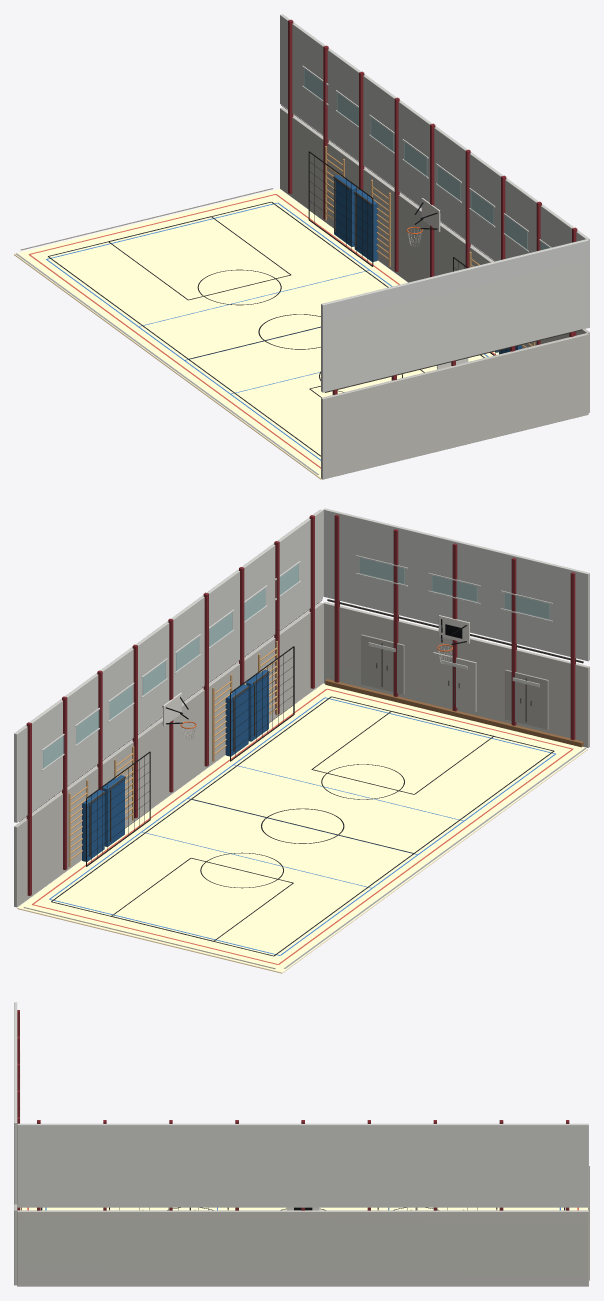
Rendered from Echte_Halle_Kleine_Hallenhaelfte_v3_open.glb.
3 views of the same model, one above another, from view 1: azimuth 30°, elevation 25°; view 2: azimuth 150°, elevation 25°; view 3: azimuth 270°, elevation 25° (orthographic). The views are drawn at different scales.
Parts seen in each view (by area): view 1: v3_kleine_hallenhaelfte_open_planner_floor_10x20m, v3_kleine_hallenhaelfte_visible_geraeteraum_wall_upper_light, v3_kleine_hallenhaelfte_visible_geraeteraum_wall_lower_grey_, v3_kleine_hallenhaelfte_kept_outer_window_wall_upper_light_w, v3_kleine_hallenhaelfte_kept_outer_window_wall_lower_wall_pa, v3_kleine_hallenhaelfte_kept_outer_window_wall_burgundy_vert (×5), v3_kleine_hallenhaelfte_long_outer_wall_equipment_upper_mirr (×2), v3_kleine_hallenhaelfte_removed_partition_floor_track, v3_kleine_hallenhaelfte_red_outer_playing_area_left; view 2: v3_kleine_hallenhaelfte_open_planner_floor_10x20m, v3_kleine_hallenhaelfte_kept_outer_window_wall_upper_light_w, v3_kleine_hallenhaelfte_visible_geraeteraum_wall_upper_light, v3_kleine_hallenhaelfte_kept_outer_window_wall_lower_wall_pa, v3_kleine_hallenhaelfte_visible_geraeteraum_wall_lower_grey_, v3_kleine_hallenhaelfte_visible_geraeteraum_wall_storage_doo (×3), v3_kleine_hallenhaelfte_kept_outer_window_wall_burgundy_vert (×7), v3_kleine_hallenhaelfte_visible_geraeteraum_wall_burgundy_st (×5), v3_kleine_hallenhaelfte_long_outer_wall_equipment_lower_mirr (×2), v3_kleine_hallenhaelfte_long_outer_wall_equipment_upper_mirr (×2), v3_kleine_hallenhaelfte_visible_geraeteraum_wall_upper_windo (×3), v3_kleine_hallenhaelfte_visible_geraeteraum_wall_wooden_base (+3 smaller); view 3: v3_kleine_hallenhaelfte_kept_outer_window_wall_upper_light_w, v3_kleine_hallenhaelfte_kept_outer_window_wall_lower_wall_pa, v3_kleine_hallenhaelfte_open_planner_floor_10x20m, v3_kleine_hallenhaelfte_visible_geraeteraum_wall_upper_light.
Boxes of the visible parts, x1,y1,x2,y2 form: v3_kleine_hallenhaelfte_open_planner_floor_10x20m: (14, 189, 498, 479); v3_kleine_hallenhaelfte_visible_geraeteraum_wall_upper_light: (321, 239, 588, 392); v3_kleine_hallenhaelfte_visible_geraeteraum_wall_lower_grey_: (321, 333, 588, 479); v3_kleine_hallenhaelfte_kept_outer_window_wall_upper_light_w: (280, 14, 589, 328); v3_kleine_hallenhaelfte_kept_outer_window_wall_lower_wall_pa: (280, 107, 589, 412); v3_kleine_hallenhaelfte_kept_outer_window_wall_burgundy_vert (×5): (288, 19, 470, 277); v3_kleine_hallenhaelfte_long_outer_wall_equipment_upper_mirr (×2): (334, 175, 377, 261); v3_kleine_hallenhaelfte_removed_partition_floor_track: (15, 253, 319, 474); v3_kleine_hallenhaelfte_red_outer_playing_area_left: (29, 254, 320, 468); v3_kleine_hallenhaelfte_open_planner_floor_10x20m: (17, 684, 587, 973); v3_kleine_hallenhaelfte_kept_outer_window_wall_upper_light_w: (14, 509, 322, 822); v3_kleine_hallenhaelfte_visible_geraeteraum_wall_upper_light: (323, 508, 589, 661); v3_kleine_hallenhaelfte_kept_outer_window_wall_lower_wall_pa: (14, 602, 322, 907); v3_kleine_hallenhaelfte_visible_geraeteraum_wall_lower_grey_: (323, 602, 589, 747); v3_kleine_hallenhaelfte_visible_geraeteraum_wall_storage_doo (×3): (361, 634, 548, 729); v3_kleine_hallenhaelfte_kept_outer_window_wall_burgundy_vert (×7): (26, 515, 314, 895); v3_kleine_hallenhaelfte_visible_geraeteraum_wall_burgundy_st (×5): (334, 514, 575, 740); v3_kleine_hallenhaelfte_long_outer_wall_equipment_lower_mirr (×2): (225, 669, 268, 756); v3_kleine_hallenhaelfte_long_outer_wall_equipment_upper_mirr (×2): (82, 775, 124, 861); v3_kleine_hallenhaelfte_visible_geraeteraum_wall_upper_windo (×3): (359, 557, 549, 619); v3_kleine_hallenhaelfte_visible_geraeteraum_wall_wooden_base: (325, 679, 583, 747); v3_kleine_hallenhaelfte_kept_outer_window_wall_upper_light_w: (17, 1123, 588, 1207); v3_kleine_hallenhaelfte_kept_outer_window_wall_lower_wall_pa: (17, 1210, 588, 1286); v3_kleine_hallenhaelfte_open_planner_floor_10x20m: (22, 1207, 587, 1210); v3_kleine_hallenhaelfte_visible_geraeteraum_wall_upper_light: (14, 1002, 17, 1204).
Bounding box in the file's own units: 10.15 × 6.41 × 20.16.
